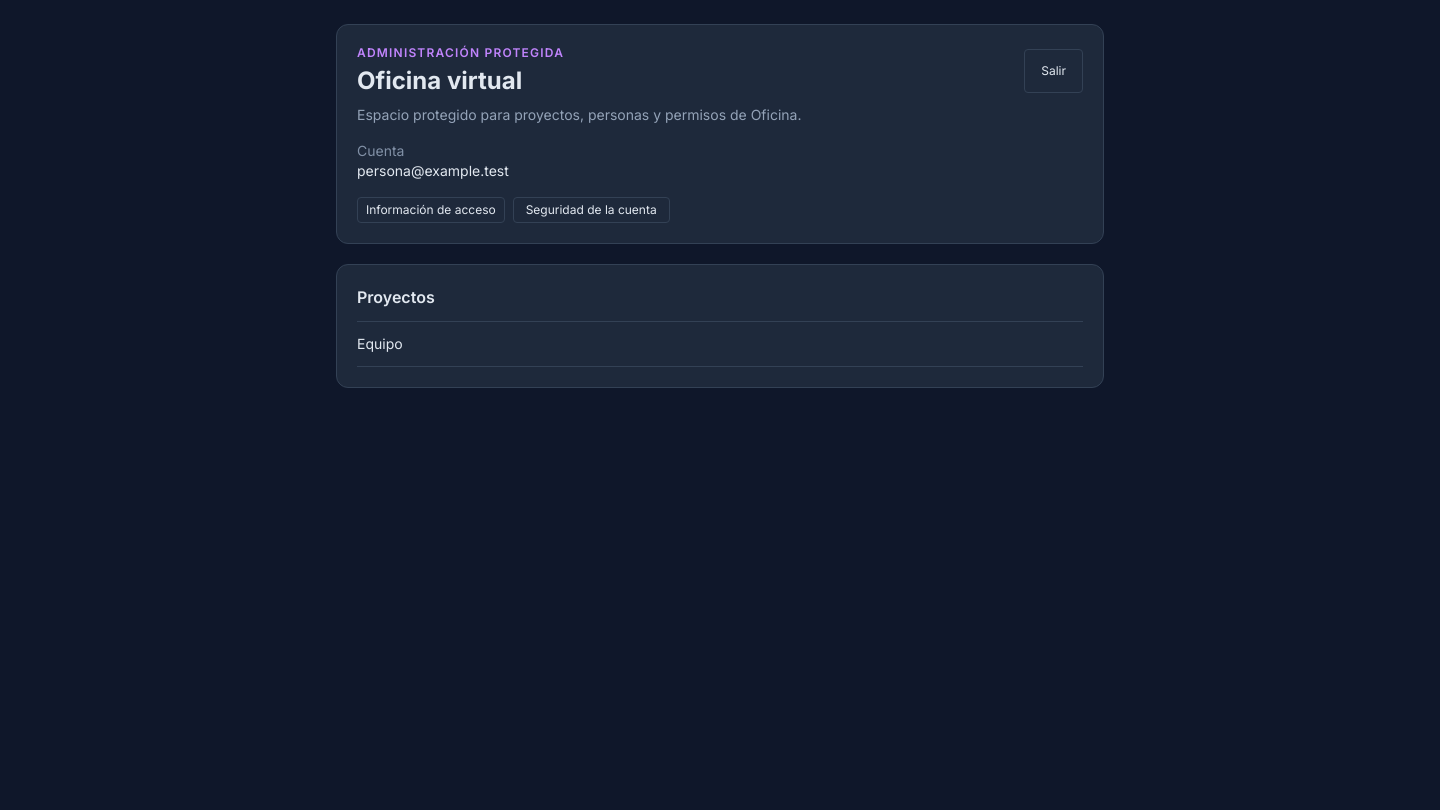
Virtual Office › does not show member management from a global session flag when the project capability is absent
Click the button "Equipo".
click(380, 344)  # box [357, 322, 1083, 366]
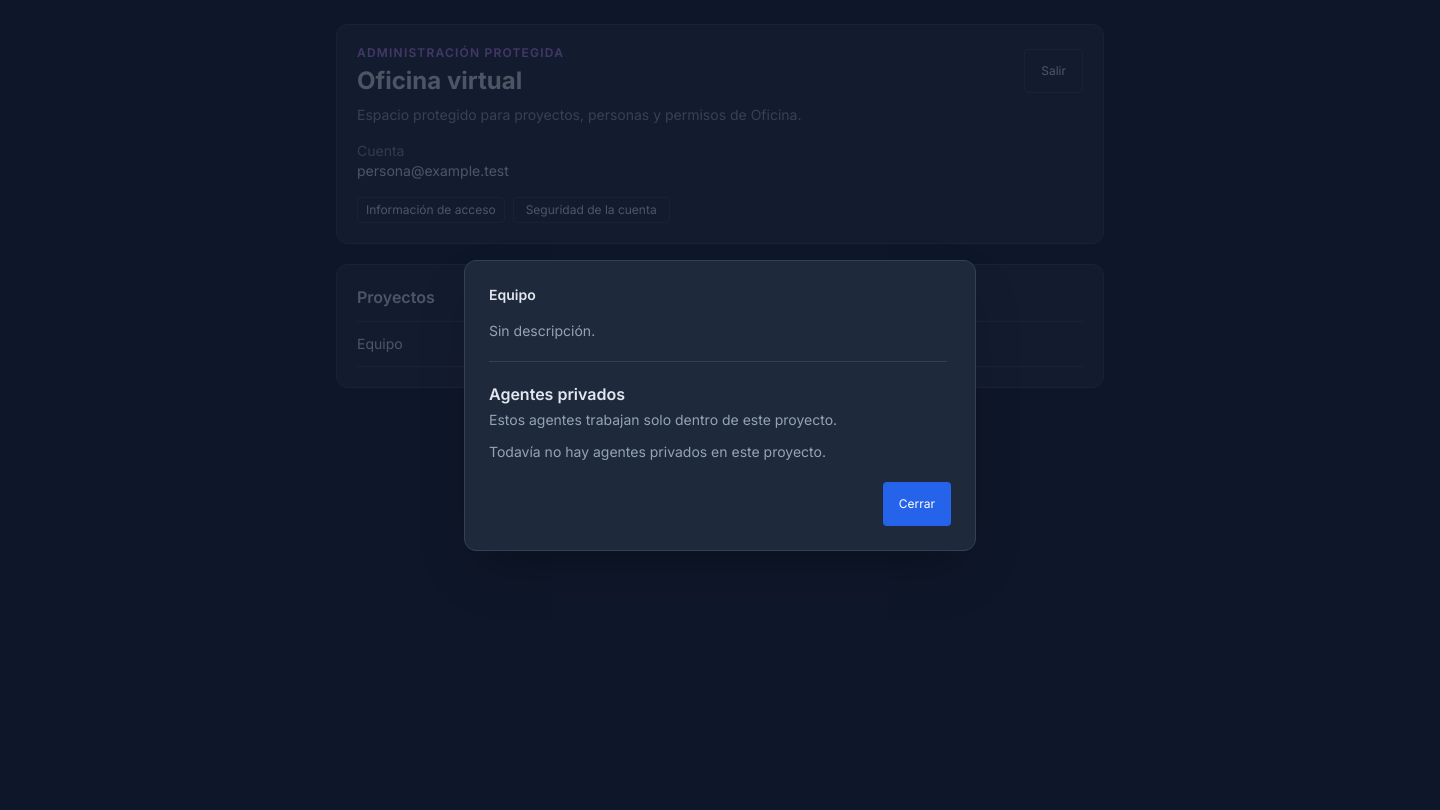
Result: the dialog "Equipo" is shown at [464, 260, 976, 550]
